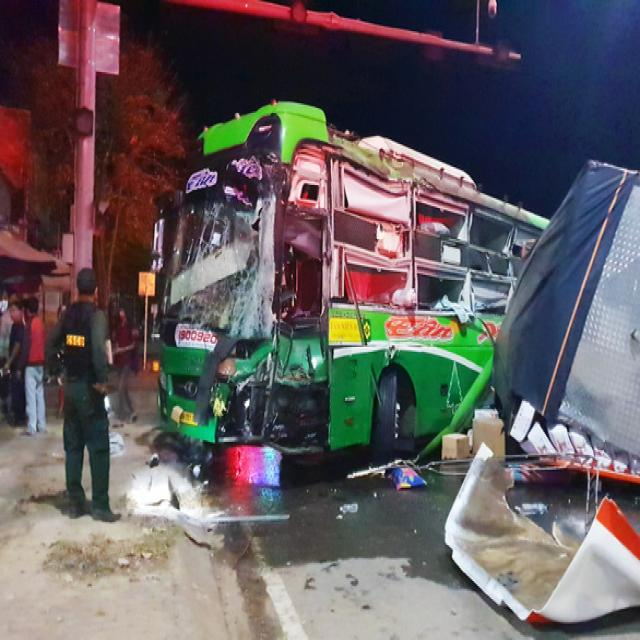accident: (159, 101, 548, 459)
